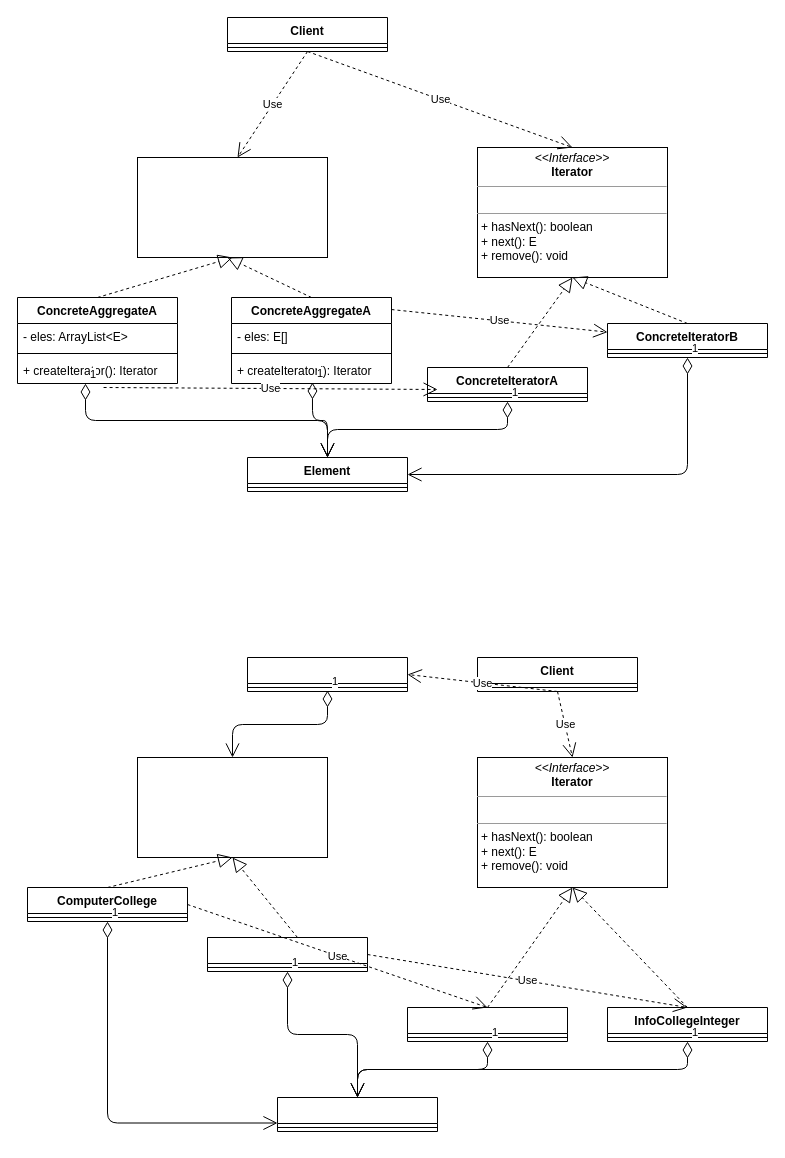
Some shapes in this 785 by 1158 pixel diagram are drawn without their labels. The shapes that lost their labels are listed below. From the top down, each one's centre as x and y in pixels, then its label:
At (232,207): "<<Interface>> Aggregate + createIterator(): Iterator".
At (327,674): "OutputImpl".
At (232,807): "<<Interface>> College + createIterator(): Iterator".
At (287,954): "InfoCollege".
At (487,1024): "ComputerCollegeInterator".
At (357,1114): "Department".
